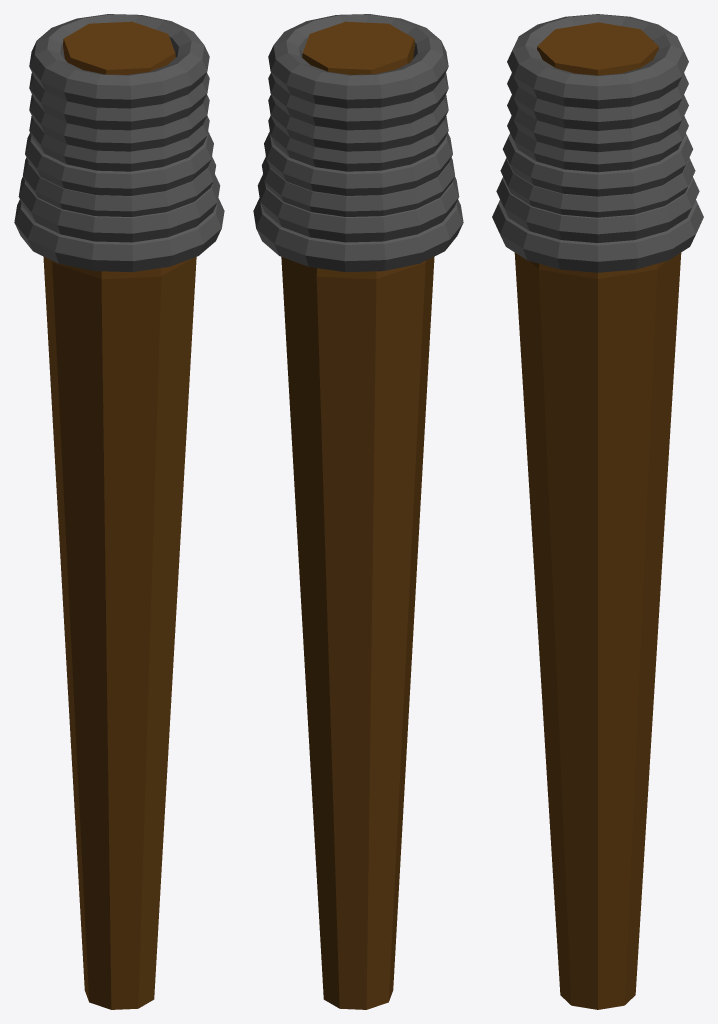
Rendered from Torch.fbx.
The picture shows the model from 3 angles, left to right: view 1: azimuth 30°, elevation 25°; view 2: azimuth 150°, elevation 25°; view 3: azimuth 270°, elevation 25°; orthographic projection.
Parts seen in each view (by area): view 1: Cylinder, Cylinder.001; view 2: Cylinder, Cylinder.001; view 3: Cylinder, Cylinder.001.
Boxes of the visible parts, x1,y1,x2,y2 form: Cylinder: (43,21,196,1009); Cylinder.001: (14,14,224,272); Cylinder: (281,21,434,1009); Cylinder.001: (253,14,463,272); Cylinder: (514,22,681,1009); Cylinder.001: (492,14,703,272).
Bounding box in the file's own units: 40.49 × 200 × 40.49.
